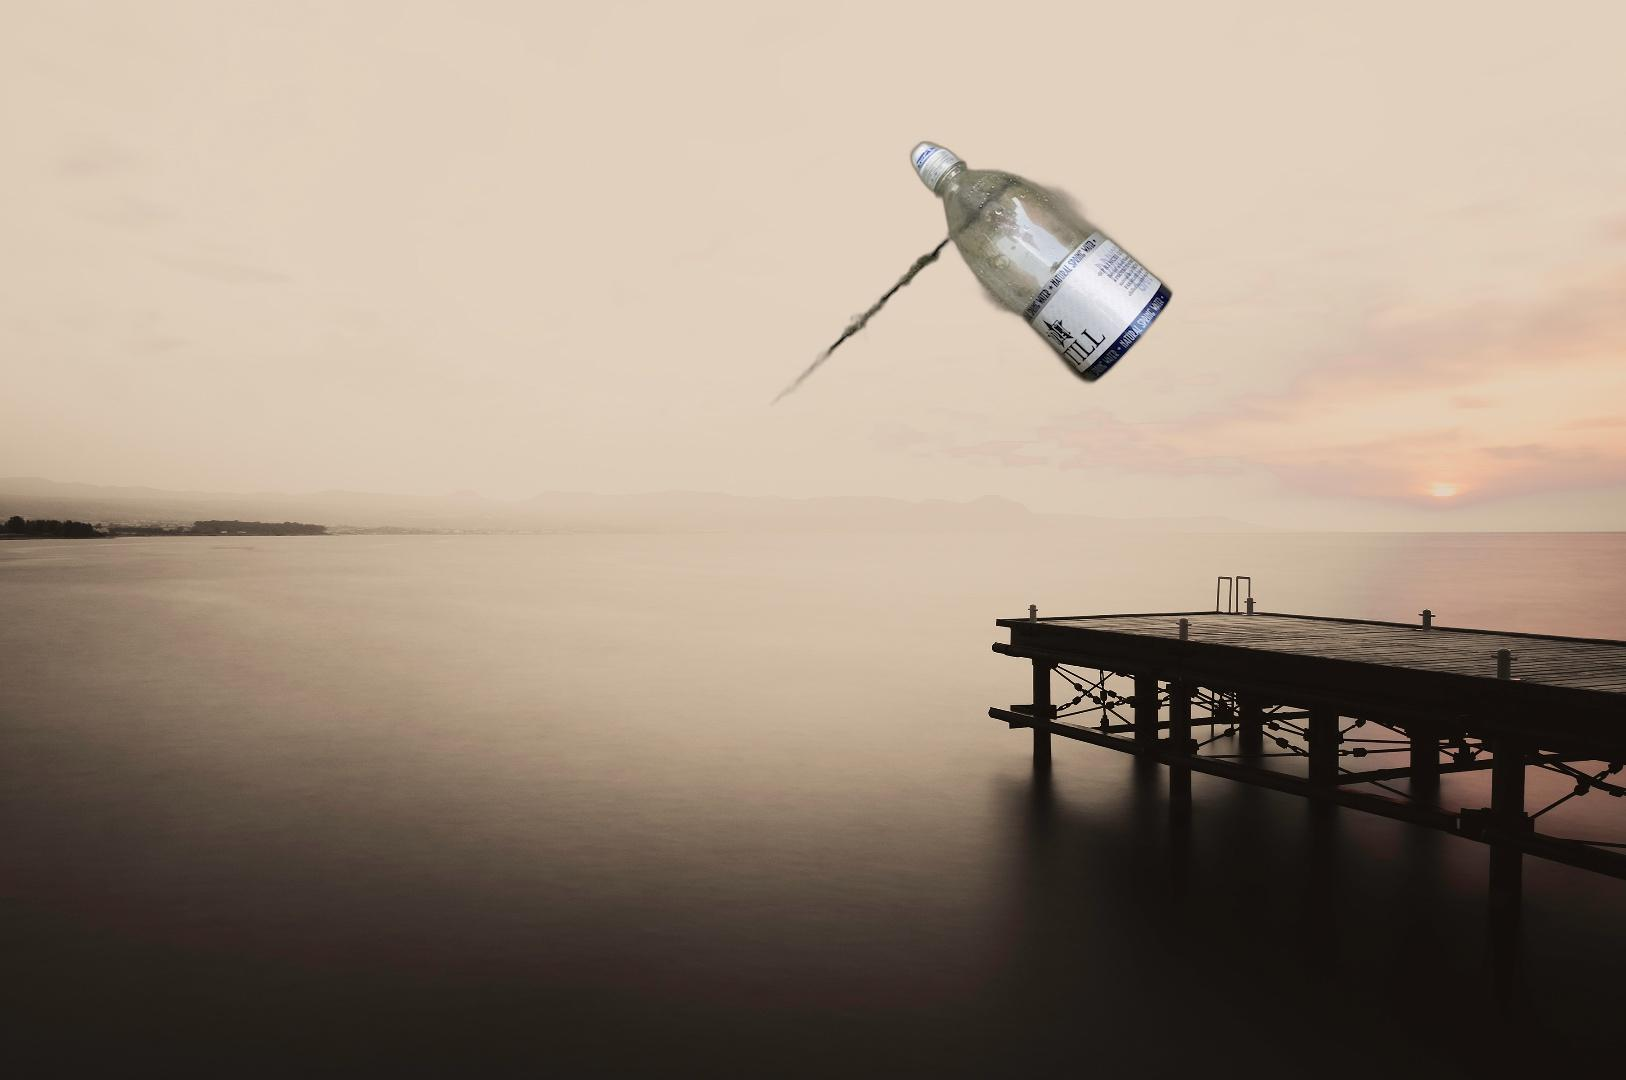plastic-bottles: (704, 135, 1176, 569)
